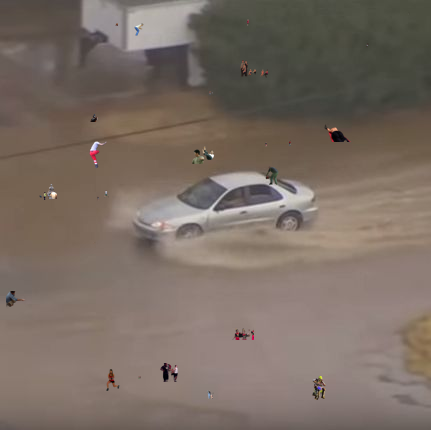Human: (324, 123, 351, 142), (6, 291, 34, 309), (240, 60, 268, 78), (89, 141, 107, 169), (192, 146, 217, 164), (160, 363, 178, 382), (312, 376, 326, 400), (106, 369, 120, 391), (232, 327, 254, 340), (265, 166, 279, 185), (47, 184, 57, 199), (134, 23, 144, 36), (90, 114, 98, 122), (207, 390, 214, 399), (39, 192, 46, 200), (104, 190, 109, 198), (209, 91, 213, 95), (247, 19, 249, 26), (289, 140, 291, 146), (366, 43, 369, 47), (408, 10, 410, 15), (159, 310, 161, 315), (265, 142, 267, 147), (93, 242, 98, 244), (97, 196, 99, 201), (115, 23, 118, 26), (138, 376, 141, 379)
